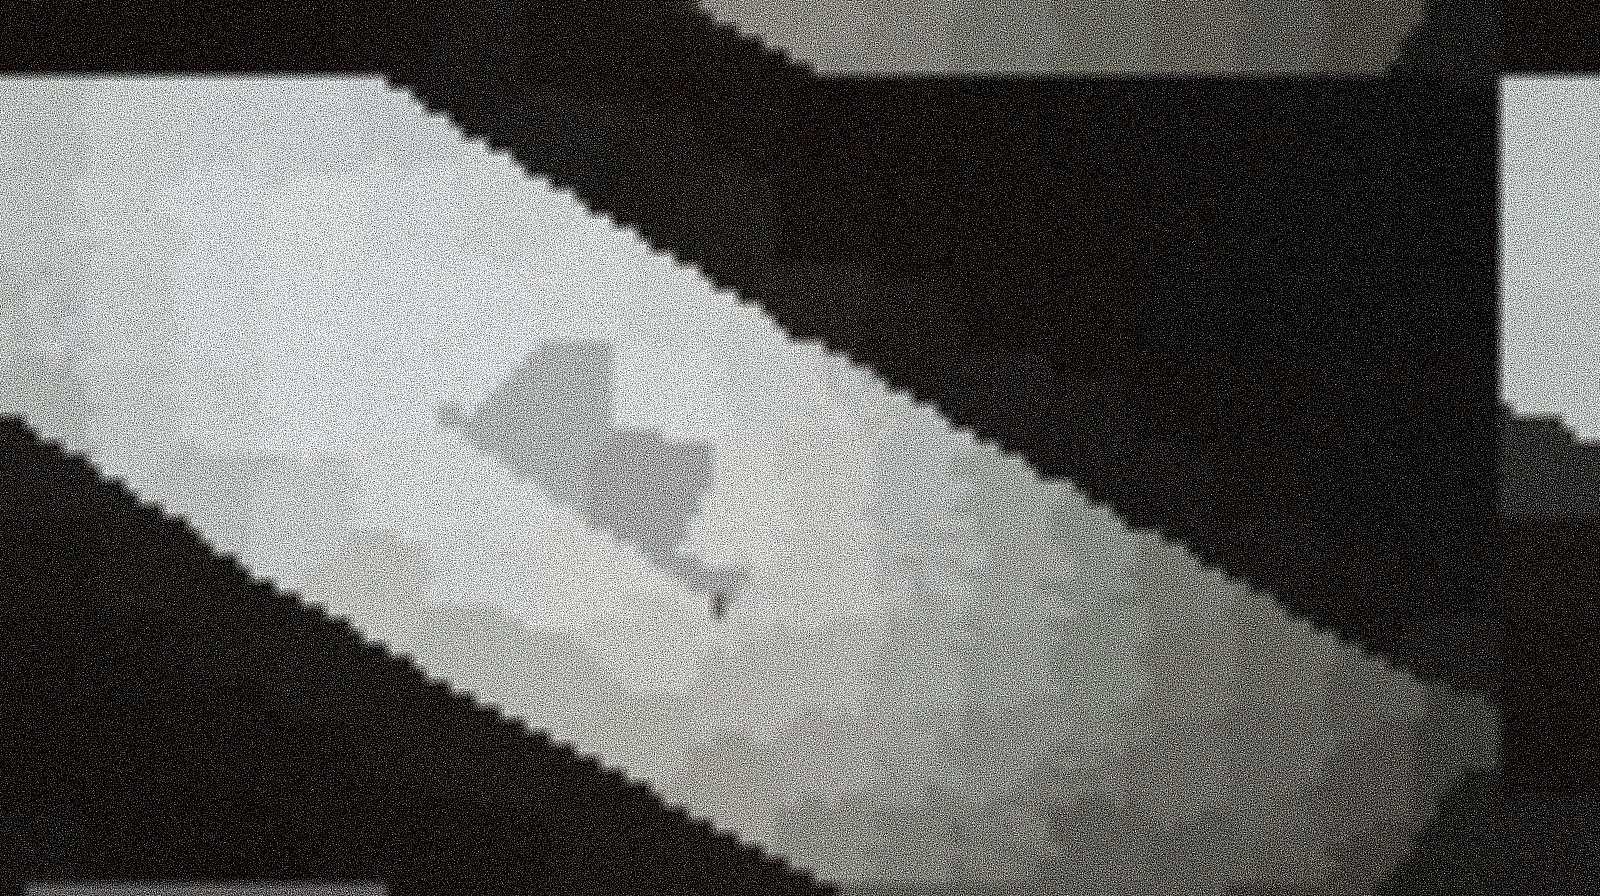S002: (415, 383, 759, 627)
